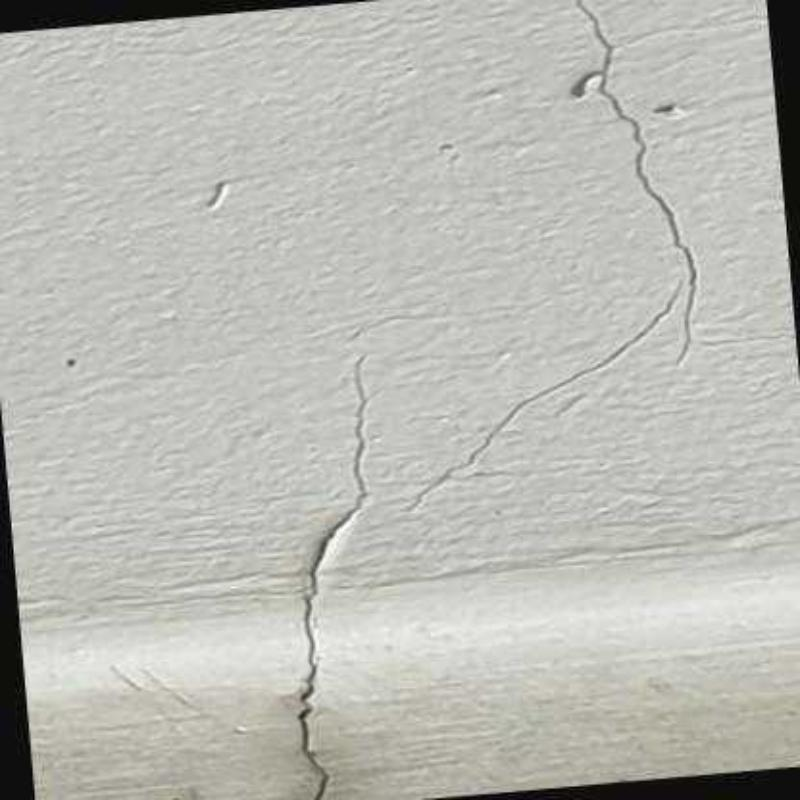pothole: (414, 0, 701, 499), (287, 375, 375, 800)
